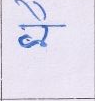ai_matra: (13, 0, 52, 22)
